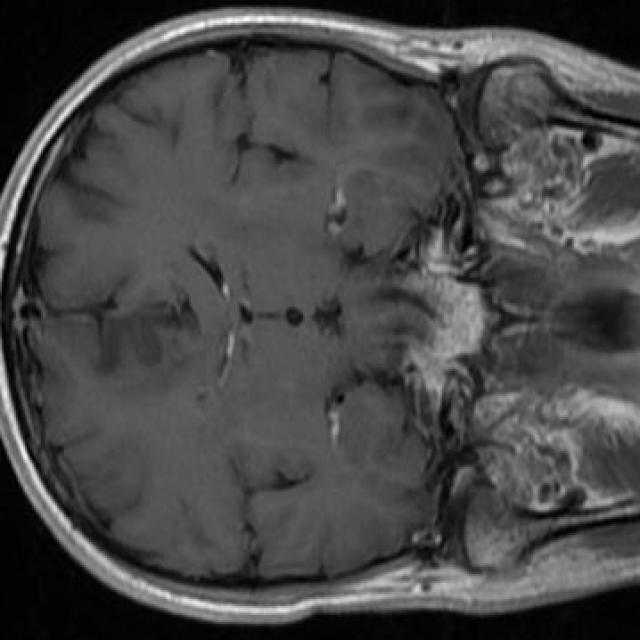glioma: (100, 301, 200, 373)
